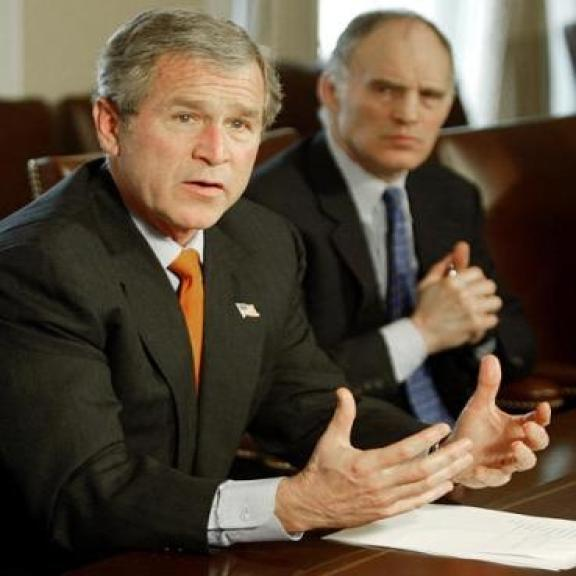face: (88, 48, 264, 228), (316, 20, 456, 173)
